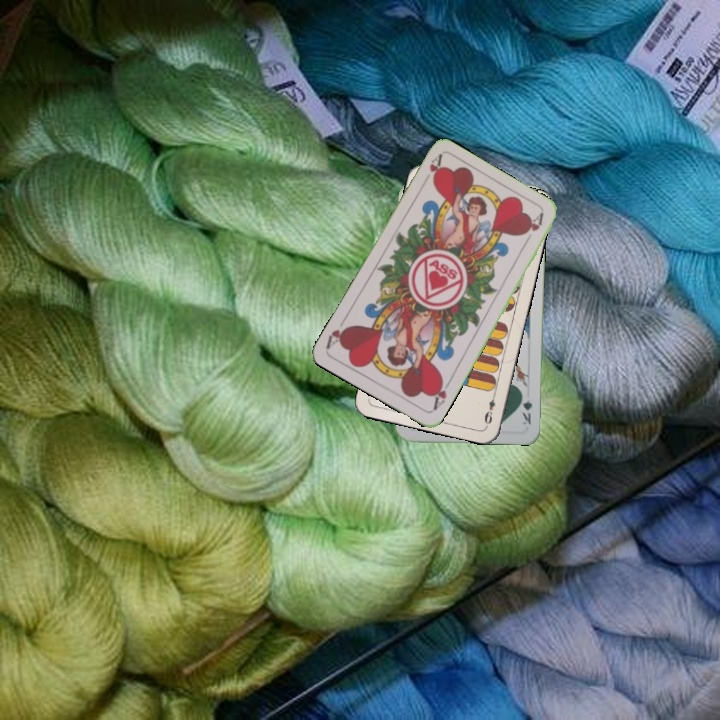E9: (480, 388, 498, 427)
GK: (518, 388, 535, 427)
HA: (418, 151, 445, 189), (429, 374, 453, 413)
